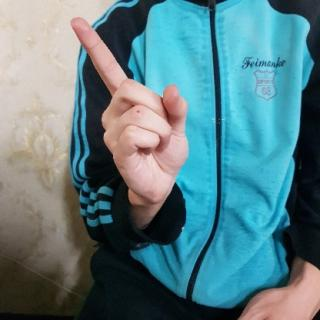RAA: (68, 14, 196, 211)
